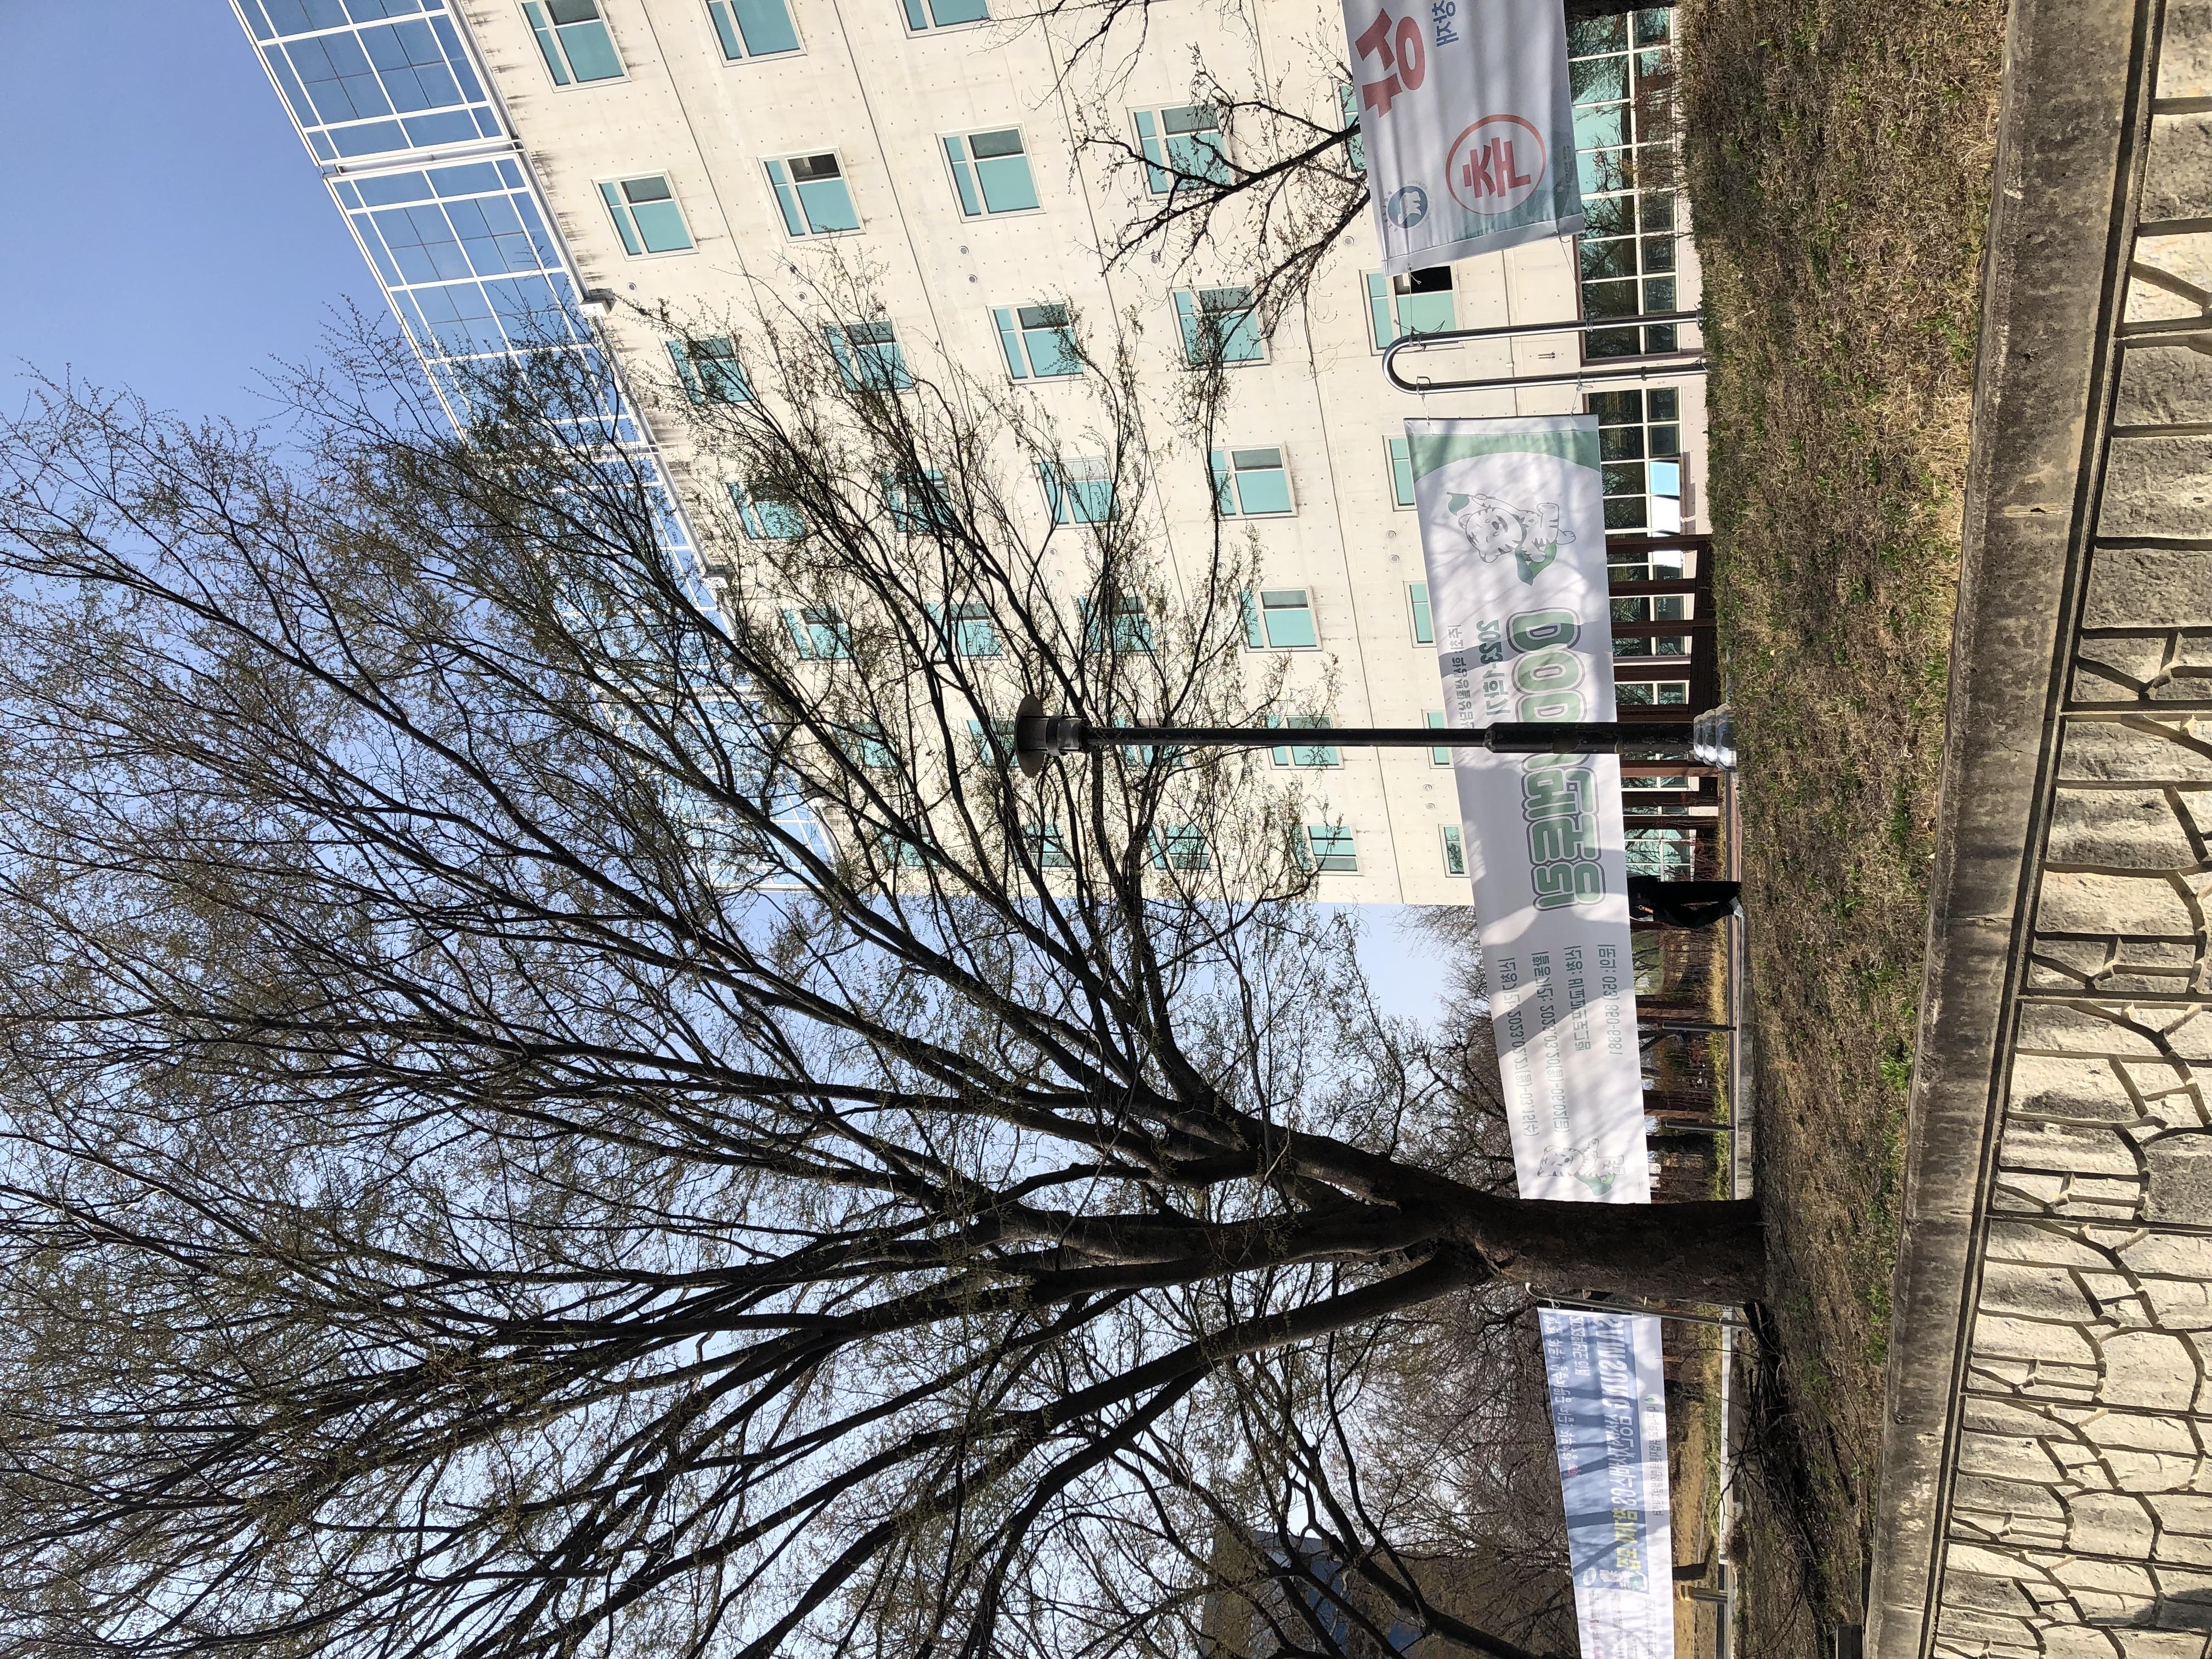building: (794, 152, 2212, 1310)
